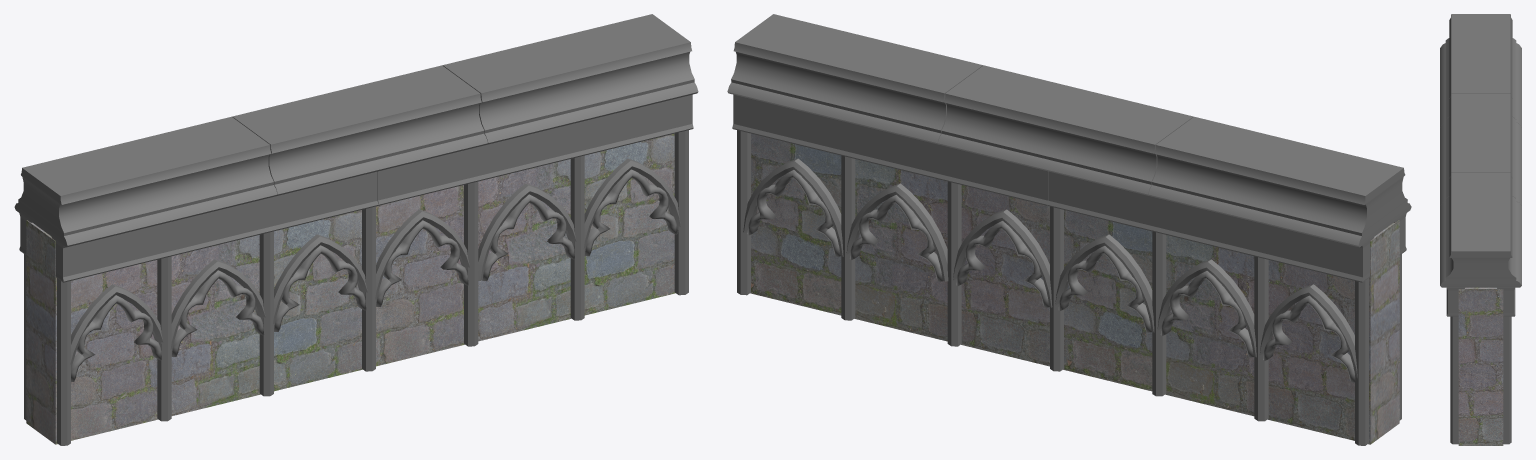
File: SM_wall_modular_10.fbx
3 renders of one model, left to right at view 1: azimuth 30°, elevation 25°; view 2: azimuth 150°, elevation 25°; view 3: azimuth 270°, elevation 25°, orthographic. The views are drawn at different scales.
Visible parts, largest first — view 1: DarkFantasyObject33; view 2: DarkFantasyObject33; view 3: DarkFantasyObject33.
Boxes of the visible parts, box(x1,y1,x2,y2) form: DarkFantasyObject33: box(14, 14, 698, 445); DarkFantasyObject33: box(727, 14, 1411, 445); DarkFantasyObject33: box(1440, 14, 1521, 445).
Size of the model in its own units: 197 by 75.13 by 28.7.
